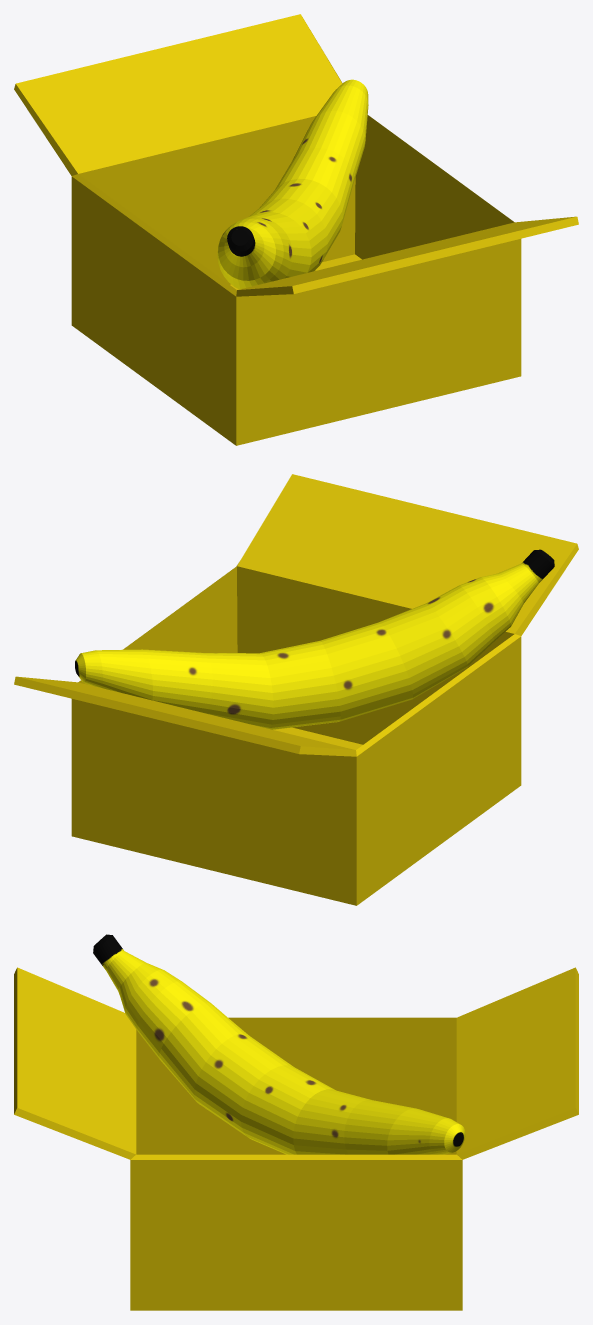
The model's file is banana_powerup.gltf.
The picture shows the model from 3 angles, top to bottom: view 1: azimuth 30°, elevation 25°; view 2: azimuth 150°, elevation 25°; view 3: azimuth 270°, elevation 25°; orthographic projection.
Parts seen in each view (by area): view 1: Box, Banana; view 2: Box, Banana; view 3: Box, Banana.
Boxes of the visible parts, box(x1,y1,x2,y2) form: Box: box(14, 14, 578, 445); Banana: box(217, 79, 368, 289); Box: box(14, 474, 578, 905); Banana: box(75, 549, 554, 729); Box: box(14, 967, 578, 1310); Banana: box(93, 934, 465, 1154).
Bounding box in the file's own units: 2.16 × 1.53 × 3.4.
2 materials, 2 textured.
